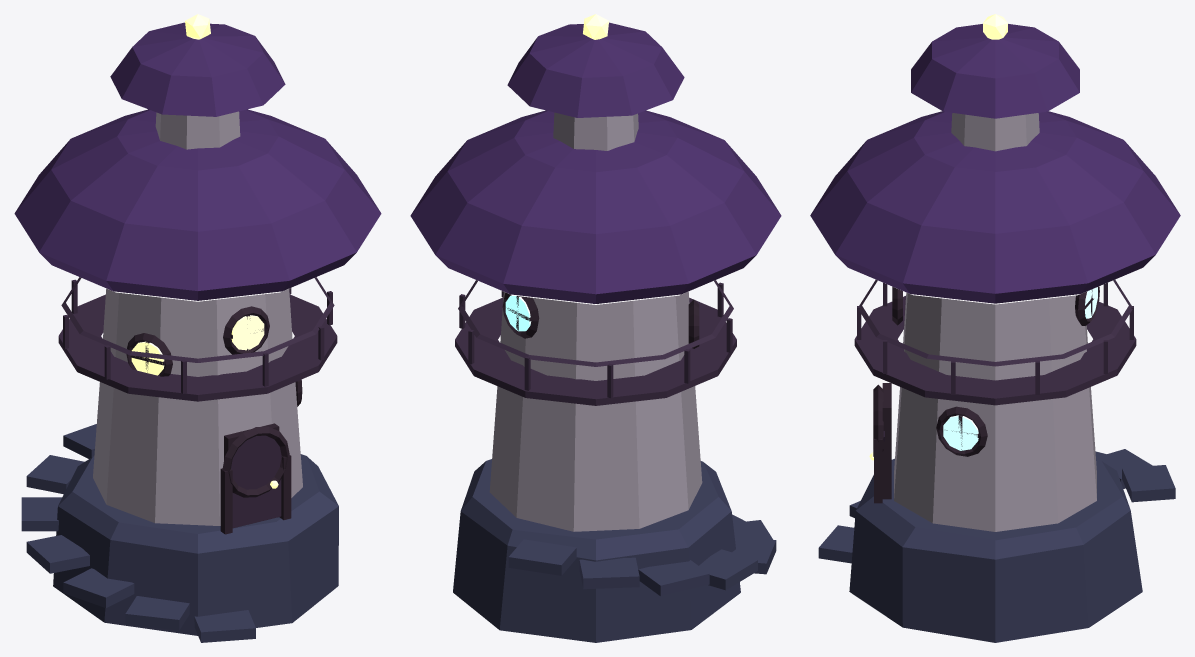
Rendered from tour_ancienne_modele.glb.
3 views of the same model, side by side, from view 1: azimuth 30°, elevation 25°; view 2: azimuth 150°, elevation 25°; view 3: azimuth 270°, elevation 25° (orthographic).
Visible parts, largest first — view 1: L5.001, L3.002, L1.003, L11, L46, L9.001, L58, P41.002, P40.003, P42.003, P18.010, P39.004 (+14 smaller); view 2: L5.001, L3.002, L1.003, L11, L46, L9.001, P45.003, L58, P43.003, P44.003, P42.003, P41.002 (+4 smaller); view 3: L5.001, L3.002, L1.003, L11, L46, L9.001, L58, P45.003, P14.011, P24.007, P39.004, P23.010 (+4 smaller).
Boxes of the visible parts, x1=… form: L5.001: x1=14, y1=109, x2=381, y2=300; L3.002: x1=93, y1=288, x2=302, y2=525; L1.003: x1=53, y1=454, x2=338, y2=635; L11: x1=110, y1=22, x2=285, y2=116; L46: x1=58, y1=294, x2=337, y2=401; L9.001: x1=155, y1=111, x2=240, y2=149; L58: x1=61, y1=277, x2=334, y2=362; P41.002: x1=63, y1=568, x2=134, y2=607; P40.003: x1=125, y1=596, x2=189, y2=630; P42.003: x1=26, y1=535, x2=89, y2=573; P18.010: x1=231, y1=435, x2=281, y2=489; P39.004: x1=194, y1=610, x2=255, y2=642; L5.001: x1=410, y1=110, x2=781, y2=303; L3.002: x1=489, y1=291, x2=702, y2=531; L1.003: x1=453, y1=459, x2=740, y2=642; L11: x1=507, y1=22, x2=684, y2=117; L46: x1=455, y1=297, x2=736, y2=405; L9.001: x1=553, y1=112, x2=638, y2=150; P45.003: x1=508, y1=539, x2=576, y2=575; L58: x1=458, y1=280, x2=733, y2=366; P43.003: x1=638, y1=560, x2=709, y2=596; P44.003: x1=579, y1=557, x2=639, y2=589; P42.003: x1=699, y1=549, x2=757, y2=590; P41.002: x1=732, y1=537, x2=776, y2=574; L5.001: x1=810, y1=111, x2=1180, y2=303; L3.002: x1=894, y1=292, x2=1096, y2=531; L1.003: x1=849, y1=458, x2=1142, y2=642; L11: x1=911, y1=24, x2=1079, y2=118; L46: x1=854, y1=296, x2=1136, y2=405; L9.001: x1=951, y1=113, x2=1039, y2=151; L58: x1=858, y1=280, x2=1132, y2=366; P45.003: x1=1122, y1=465, x2=1175, y2=502; P14.011: x1=882, y1=383, x2=891, y2=499; P24.007: x1=936, y1=406, x2=987, y2=456; P39.004: x1=818, y1=525, x2=854, y2=563; P23.010: x1=943, y1=415, x2=978, y2=450.
Bounding box in the file's own units: 2.5 × 4.22 × 2.5.
